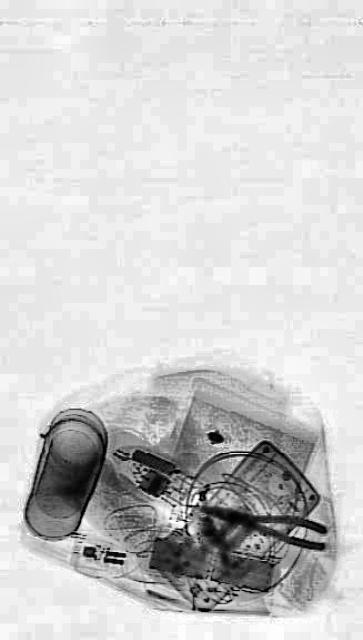Pliers: (192, 490, 328, 552)
